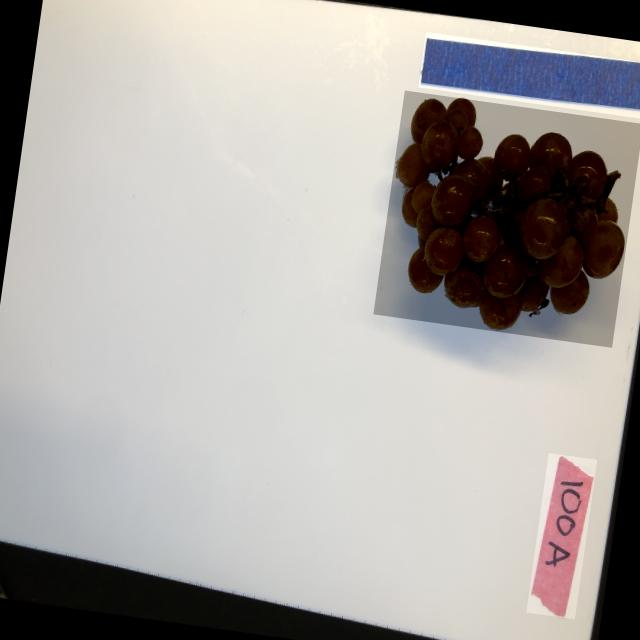grape_cluster: (372, 90, 640, 347)
index: (526, 453, 596, 619)
measure_label: (417, 32, 640, 121)
